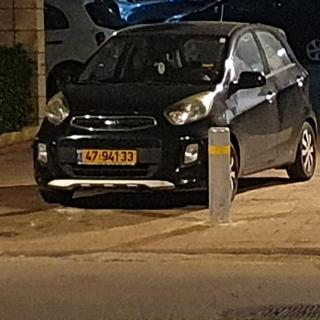LicensePlate: (84, 150, 136, 162)
